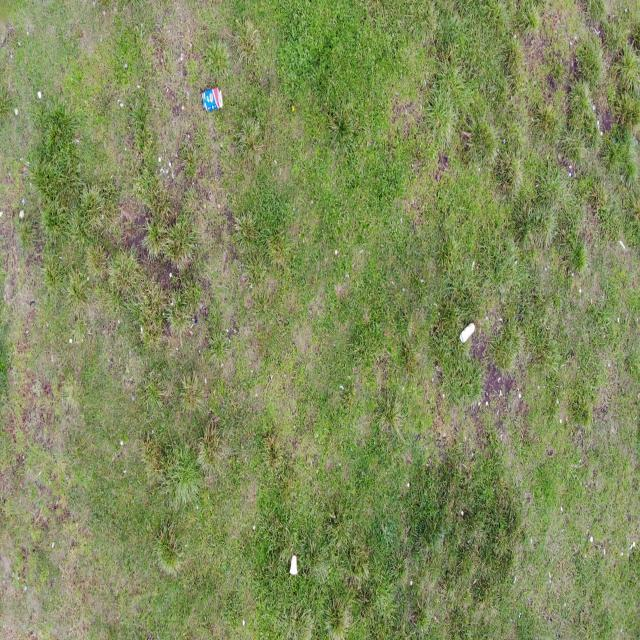rubbish: (201, 85, 223, 113), (458, 322, 476, 346), (288, 554, 299, 576)
